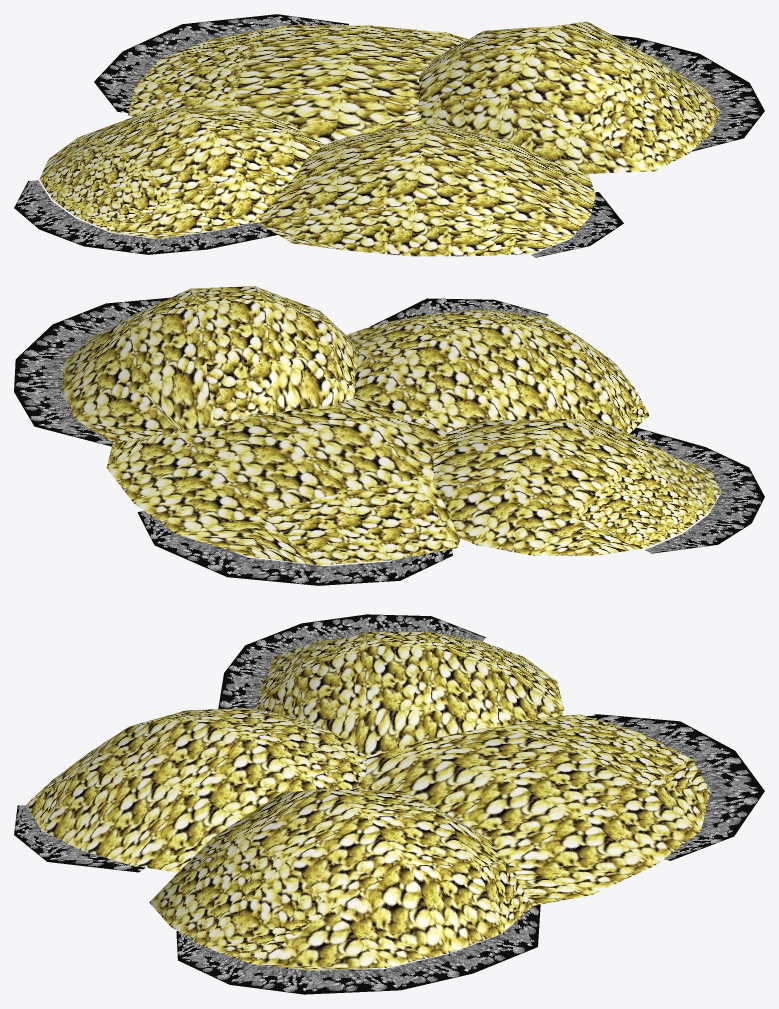
Rendered from pir_m_gam_can_goldPile.fbx.
The picture shows the model from 3 angles, top to bottom: view 1: azimuth 30°, elevation 25°; view 2: azimuth 150°, elevation 25°; view 3: azimuth 270°, elevation 25°; orthographic projection. The views are drawn at different scales.
Parts seen in each view (by area): view 1: coin_pile2, pile_edge2; view 2: coin_pile2, pile_edge2; view 3: coin_pile2, pile_edge2.
Part boxes in pixels (x1,y1,x2,y2): coin_pile2: (39,21,720,256); pile_edge2: (14,14,764,257); coin_pile2: (62,286,721,565); pile_edge2: (14,297,764,585); coin_pile2: (26,632,710,970); pile_edge2: (14,614,764,994).
Bounding box in the file's own units: 1796 × 203 × 1499.
2 materials, 2 textured.
